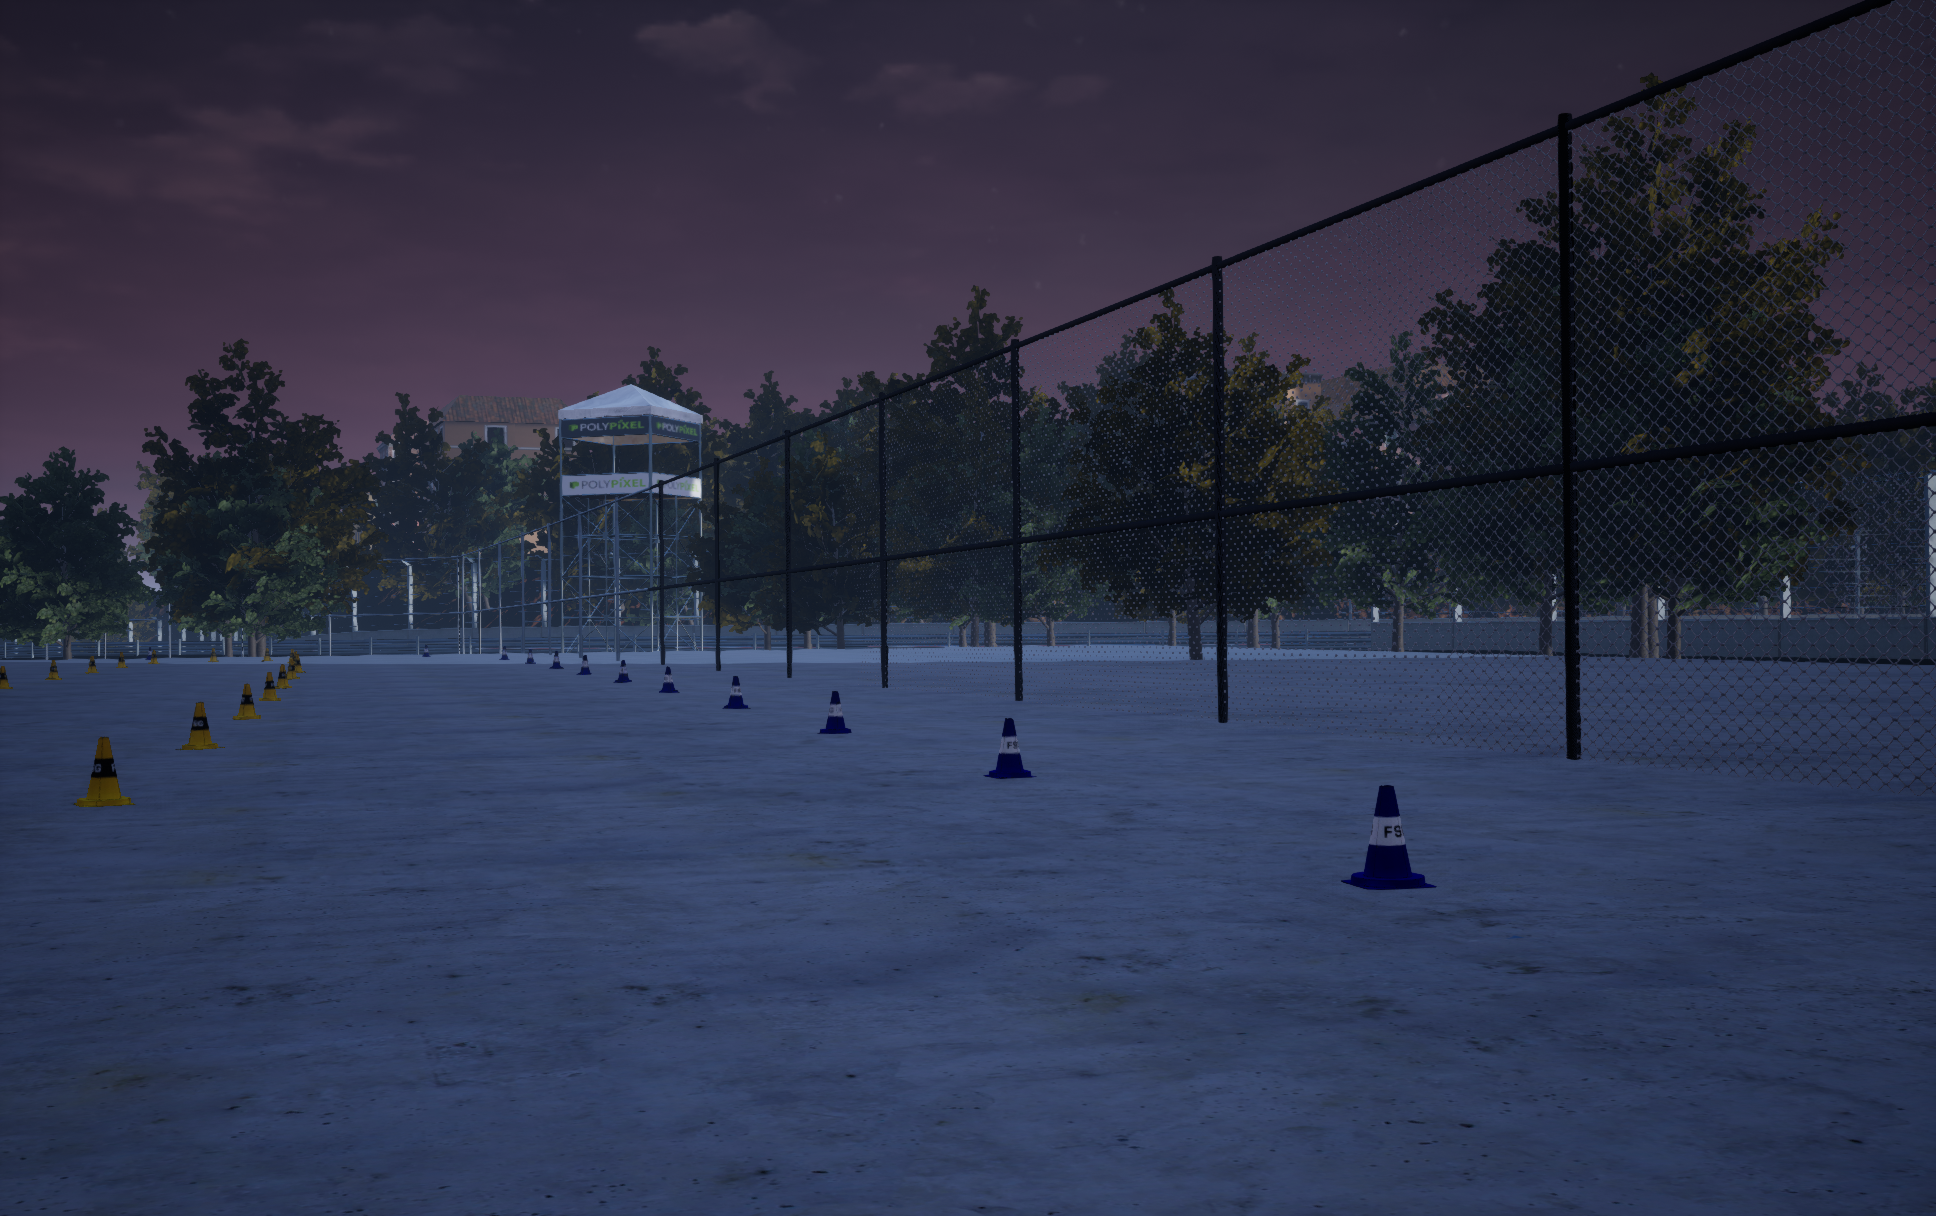blue: (73, 737, 134, 806), (175, 702, 224, 749), (233, 684, 261, 719), (259, 672, 280, 700), (275, 664, 291, 688), (45, 660, 62, 679), (0, 665, 13, 688), (287, 658, 298, 679)
yellow: (1341, 785, 1436, 890), (983, 719, 1037, 778), (817, 691, 850, 733), (721, 677, 749, 707), (658, 665, 679, 692), (614, 660, 630, 682), (576, 656, 591, 674)
